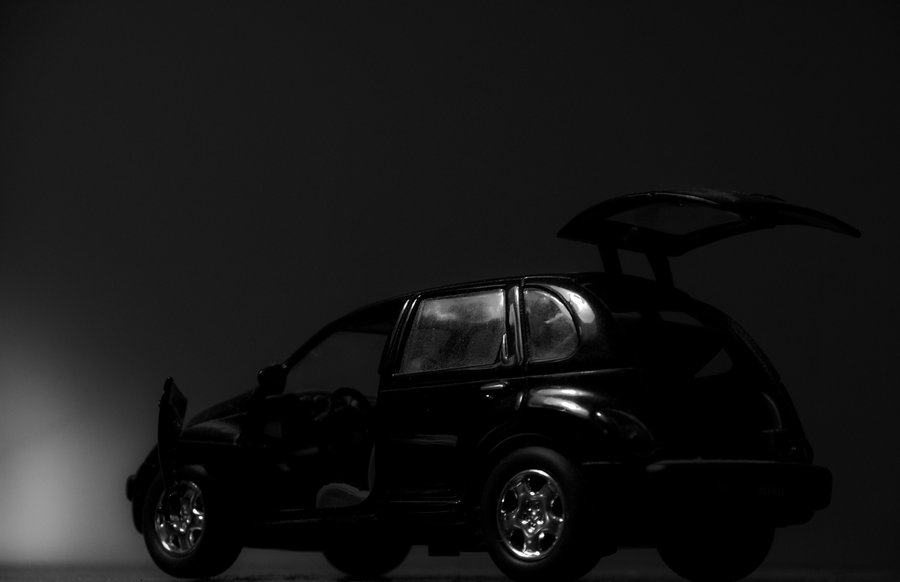car: (113, 169, 869, 579)
